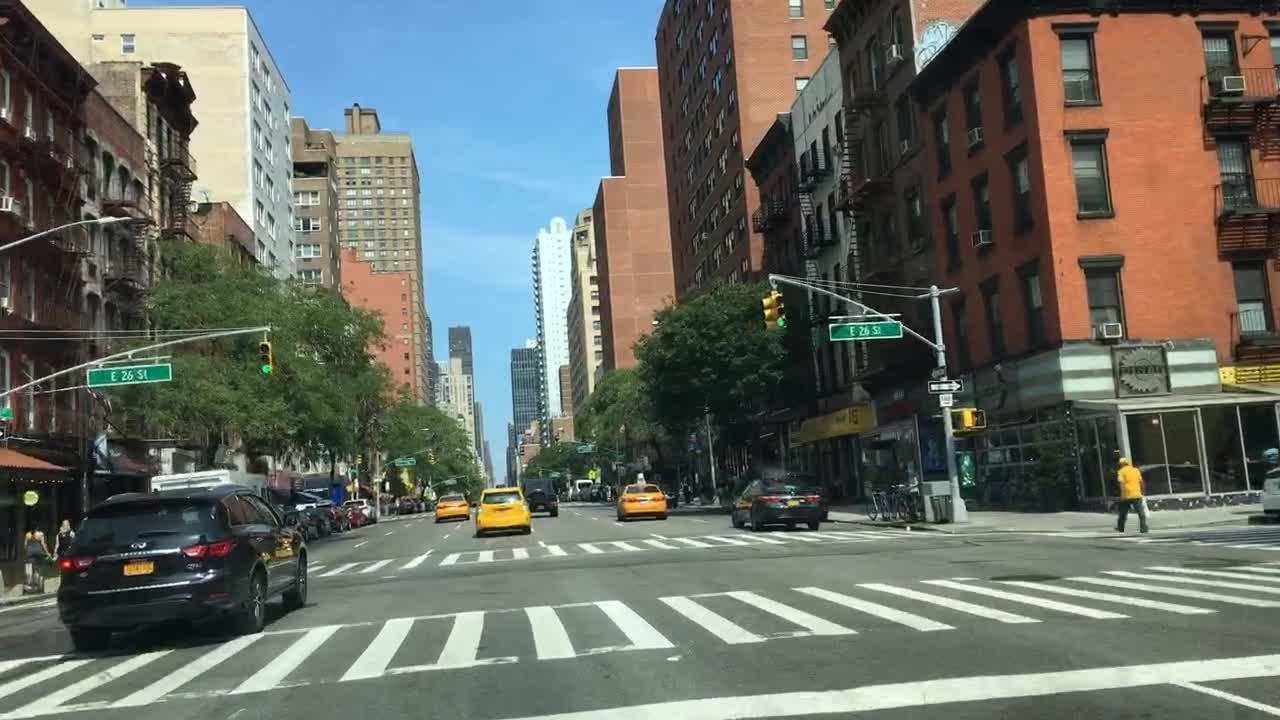Infiniti: (121, 538, 161, 551)
